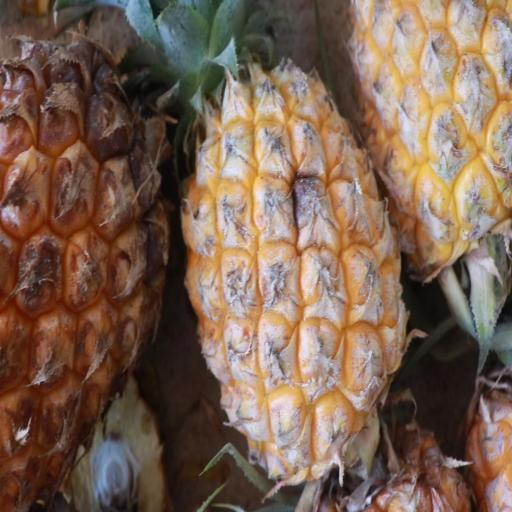Pineapple - v8 v1: (178, 17, 413, 495), (0, 19, 175, 512), (354, 0, 512, 284)
